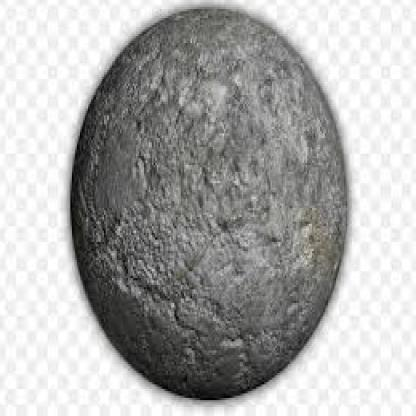Metamorphic_Marble: (66, 2, 354, 402)
